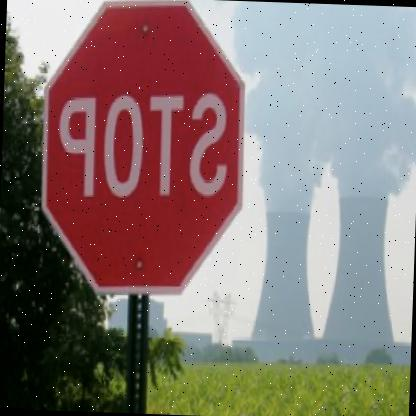stop: (35, 0, 254, 297)
